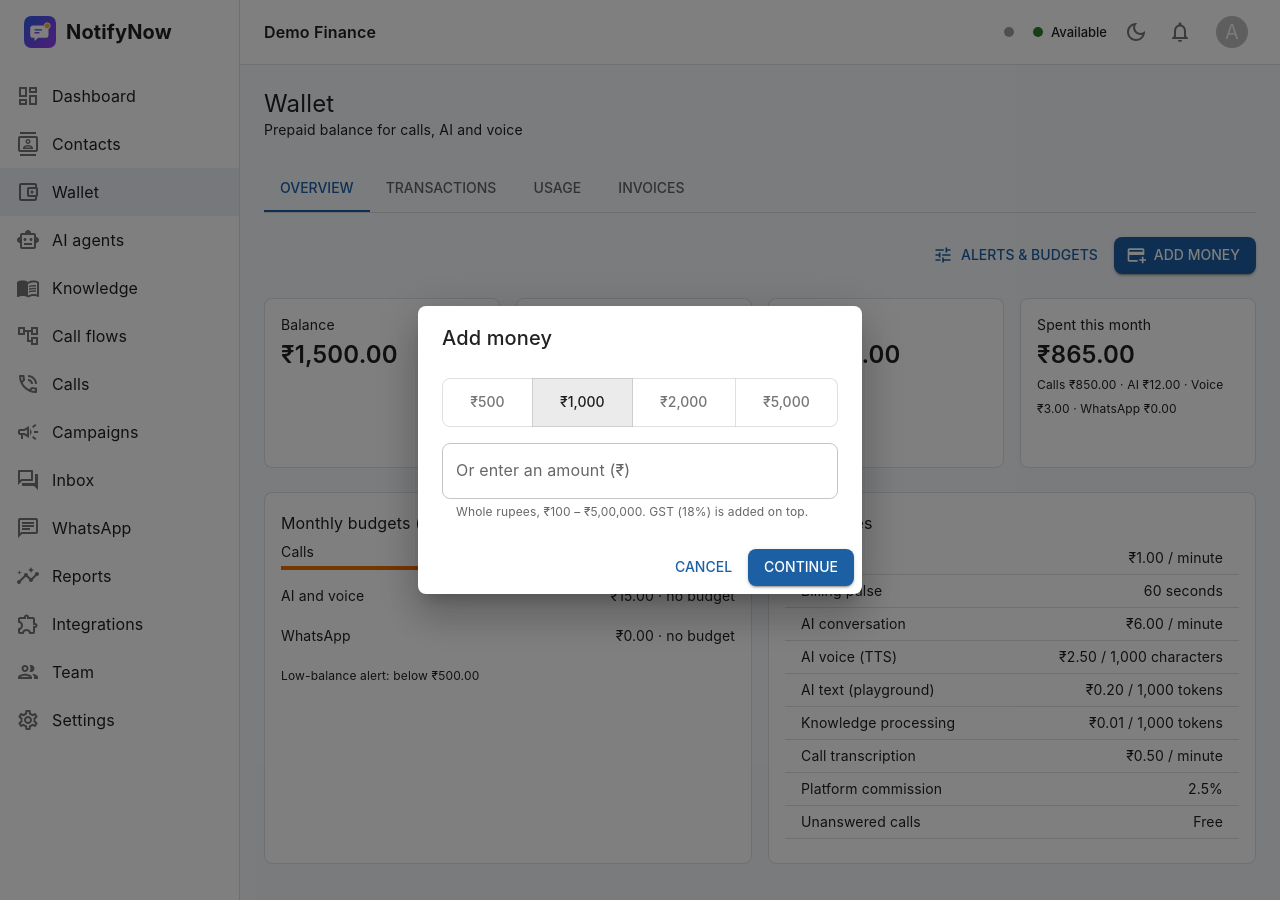
add money › uses IGST for another state
What coordinates should you click on to do the following:
click the button "Continue"
I would click on:
 (801, 568)
Its box is [748,550,854,586].
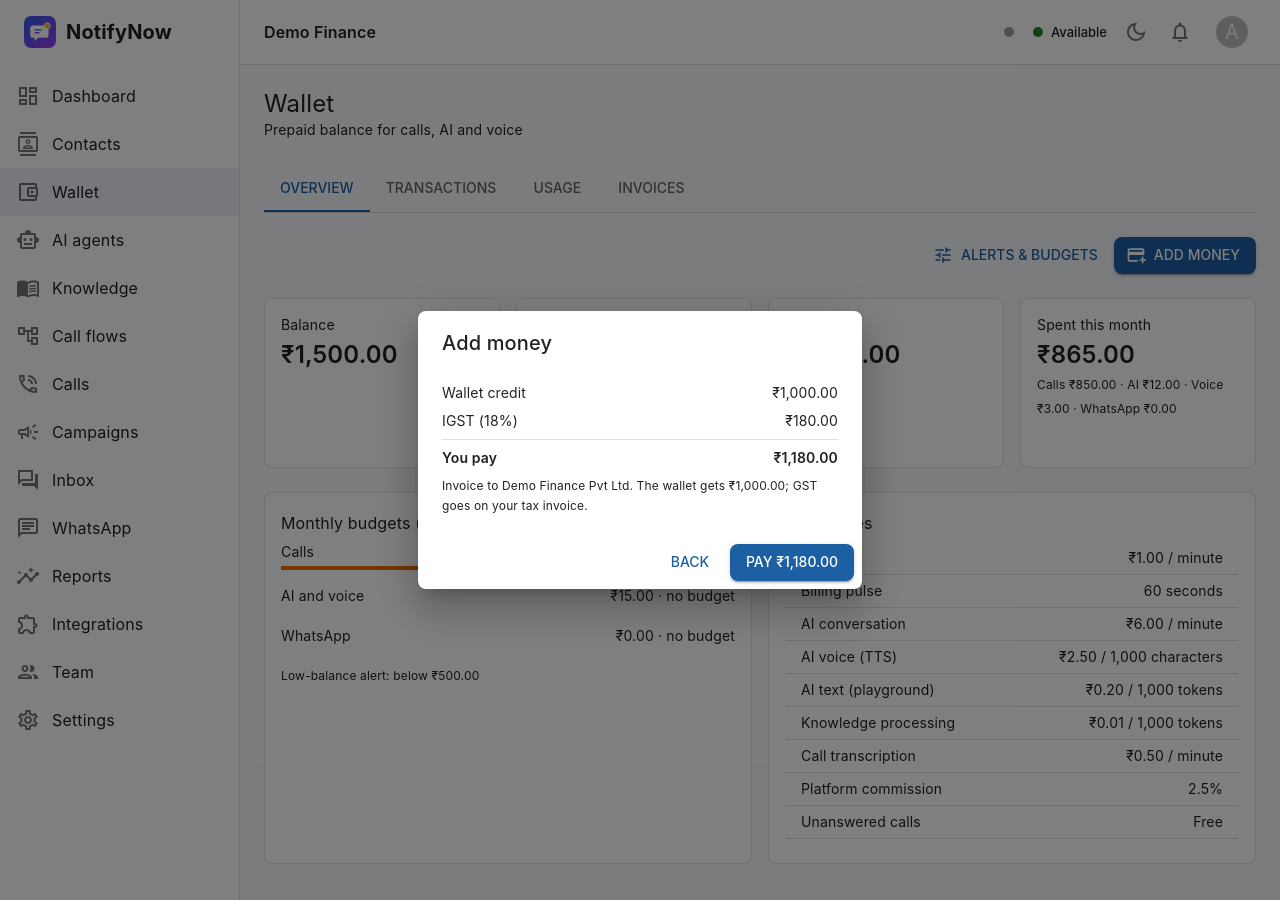
Check: the text "IGST (18%)" is shown, box [442,411,518,431]
Check: the text "₹180.00" is shown, box [785,411,838,431]
